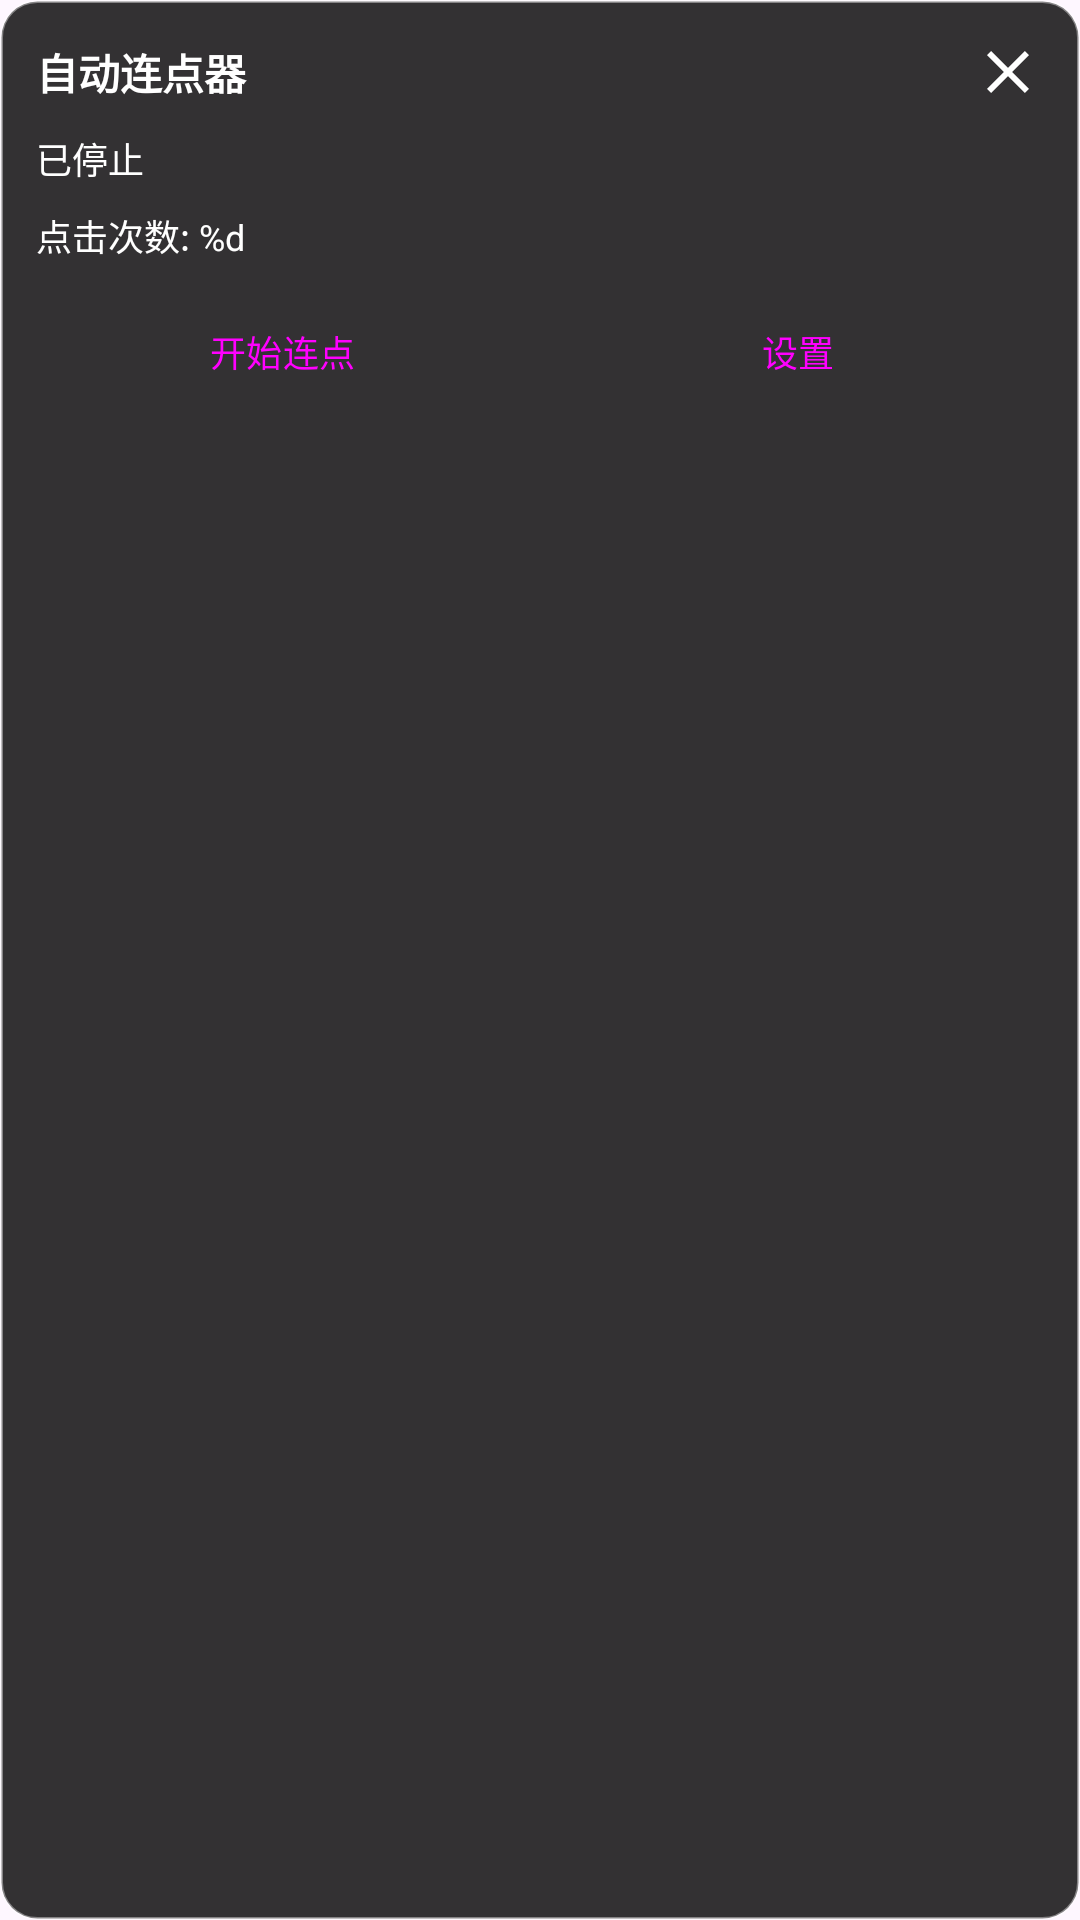

Named icons in this screenshot (1080 × 1920) and their bounding boxes, bbox=(x1, y1, x2, y2):
关闭: bbox=(987, 51, 1029, 93)
